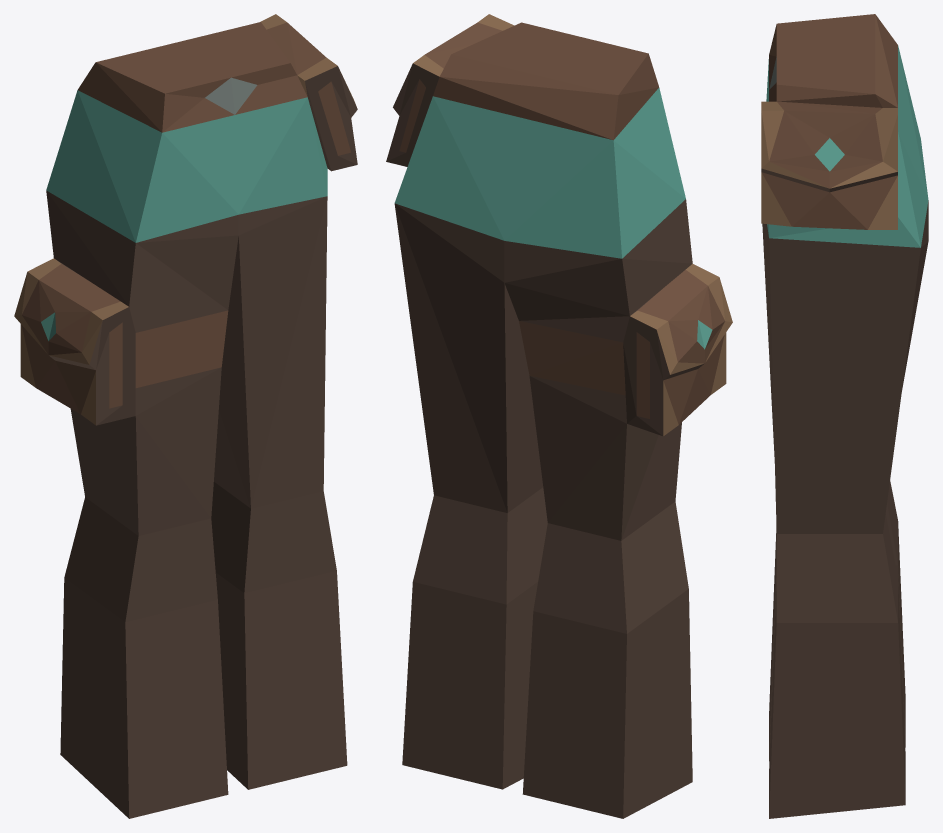
3 views of the same model, side by side, from view 1: azimuth 30°, elevation 25°; view 2: azimuth 150°, elevation 25°; view 3: azimuth 270°, elevation 25° (orthographic).
Size of the model in its own units: 43 by 104 by 22.
